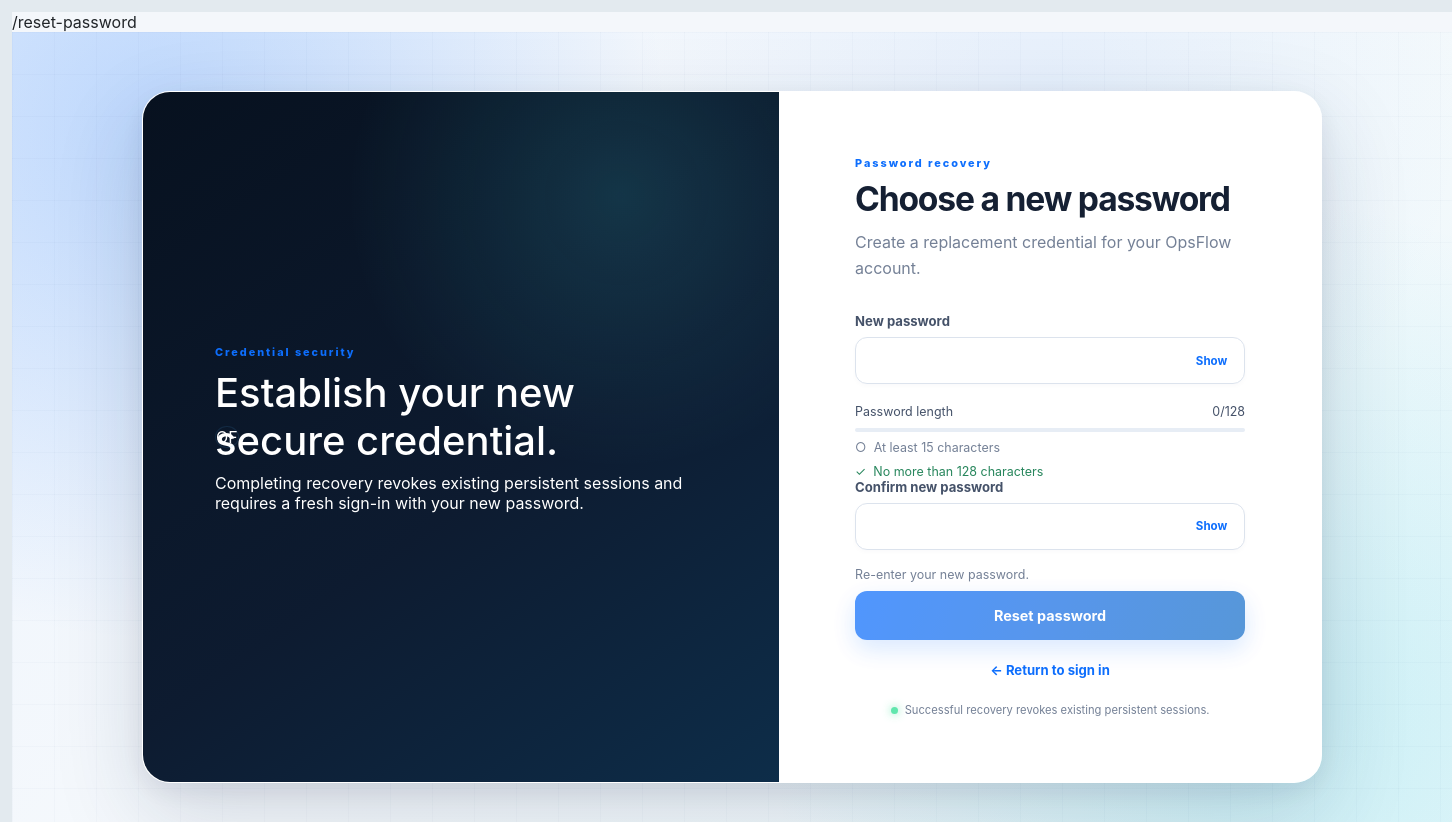
ResetPasswordPage password policy › shows the live password-length counter
Expected: the text "0/128" is shown, [1212,404,1245,419]
Type "123456789012345" into the password field labelled "New password" at coordinates (1023, 361), box [856,338,1189,383]
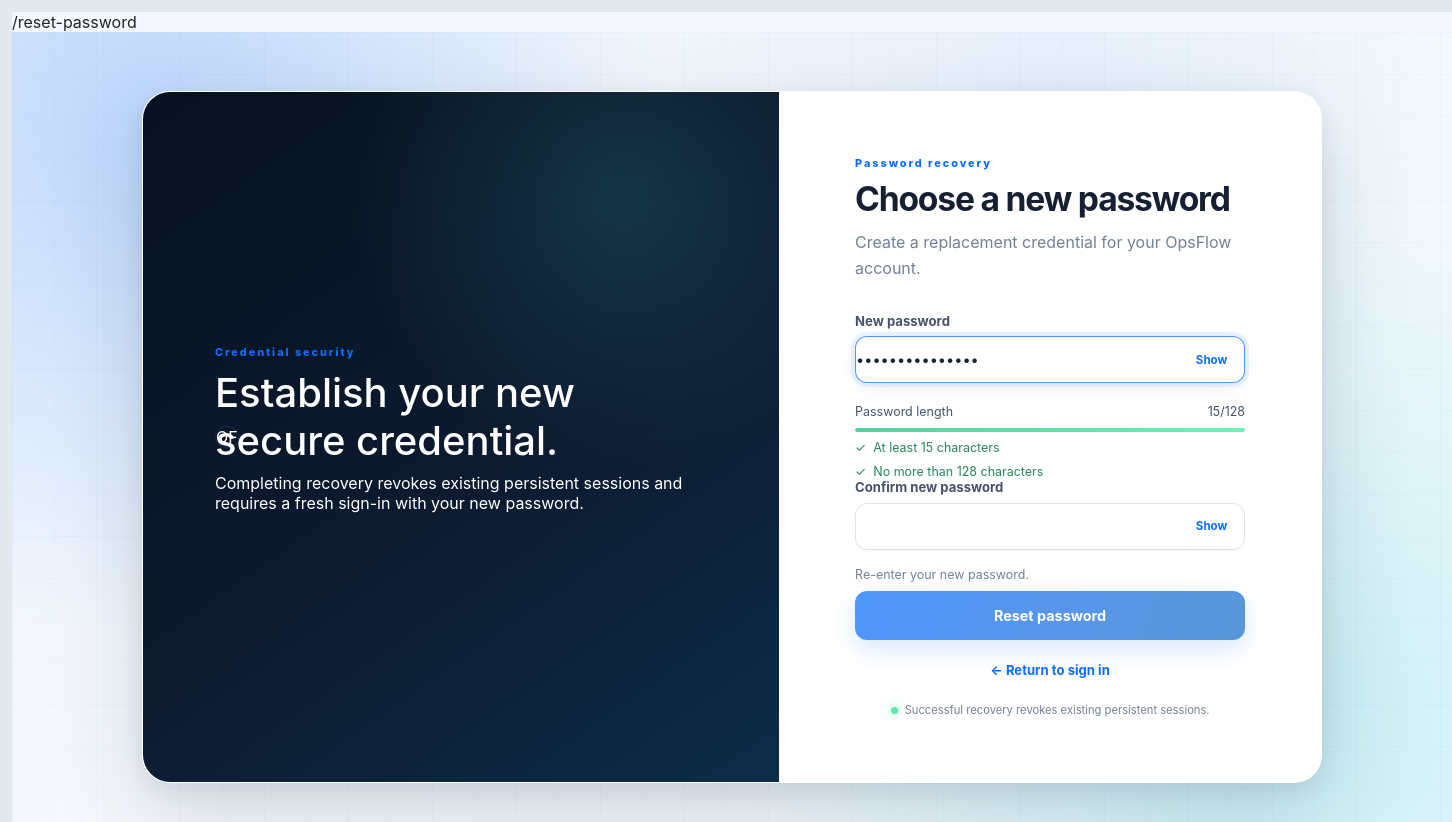
Expected: the text "15/128" is shown, [1208,404,1245,419]
